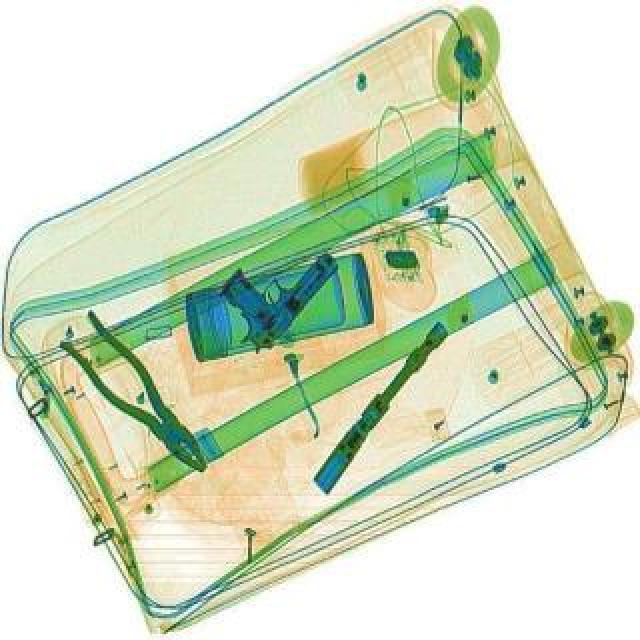gun: (200, 210, 344, 360)
wrench: (50, 308, 226, 484)
